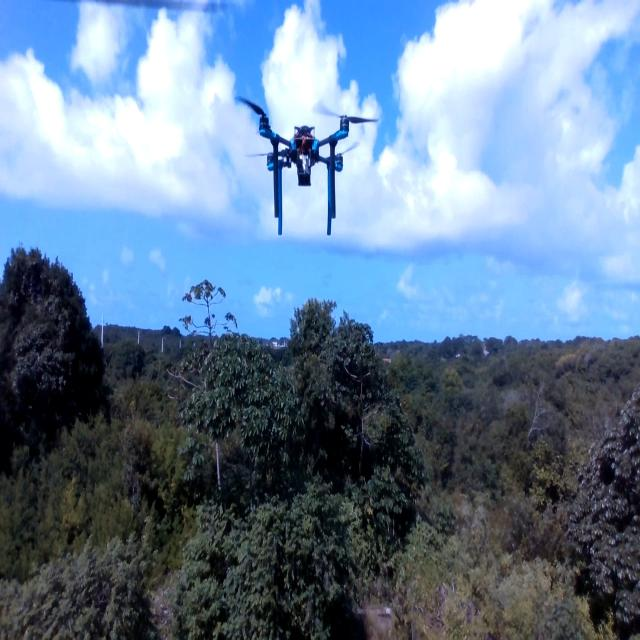-uav-: (237, 70, 384, 246)
